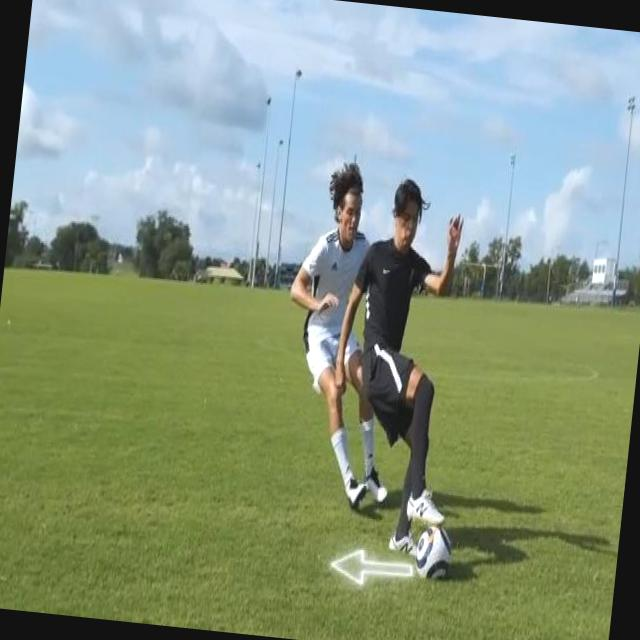Soccer Ball: (412, 520, 455, 589)
